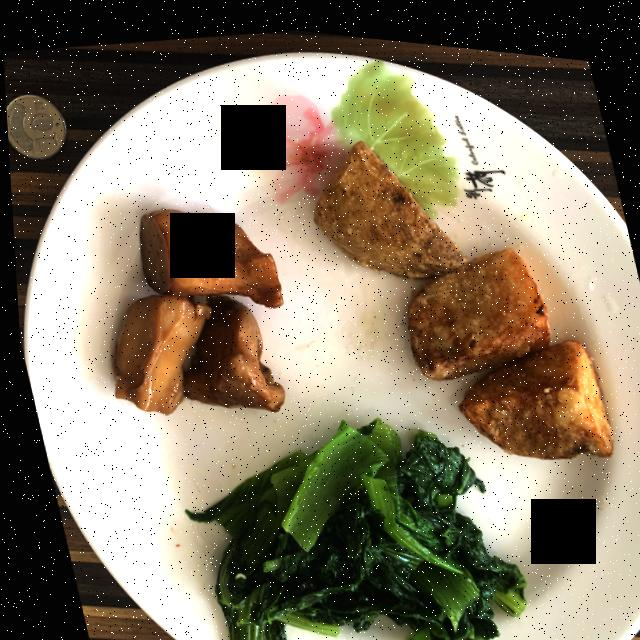coin: (5, 94, 64, 159)
fried potato: (311, 133, 607, 448)
mustard greens: (180, 412, 518, 640)
